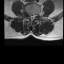CCS_normal: (31, 13, 33, 21)
LFS_stenosis: (35, 12, 37, 18)
LLS_normal: (33, 12, 35, 20)
RFS_severe_stenosis: (28, 11, 30, 17)
RLS_normal: (30, 12, 31, 20)
